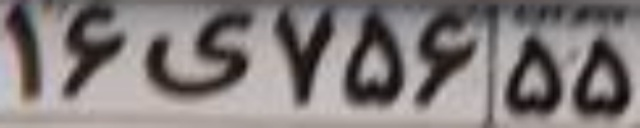1: (3, 3, 40, 101)
5: (338, 6, 405, 105), (569, 39, 634, 114), (504, 35, 560, 113)
6: (413, 11, 478, 108), (60, 5, 125, 101)
7: (272, 3, 333, 108)
ye: (142, 10, 251, 95)
